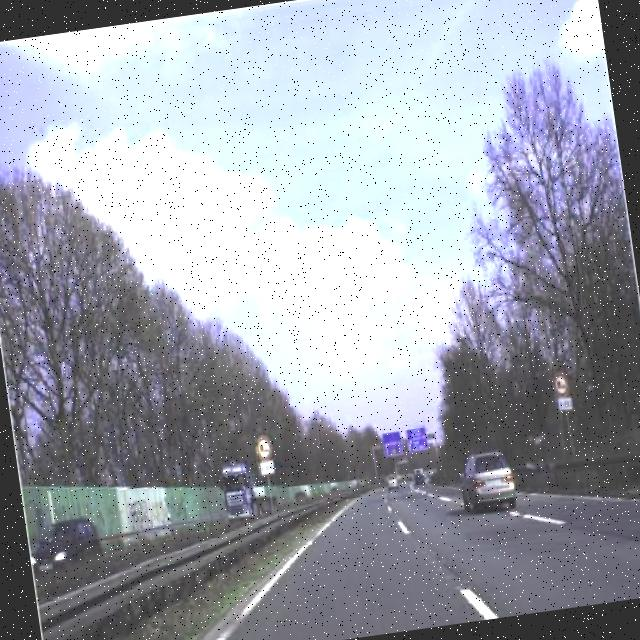Zakaz wyprzedzania: (552, 370, 574, 400), (253, 431, 274, 462)
